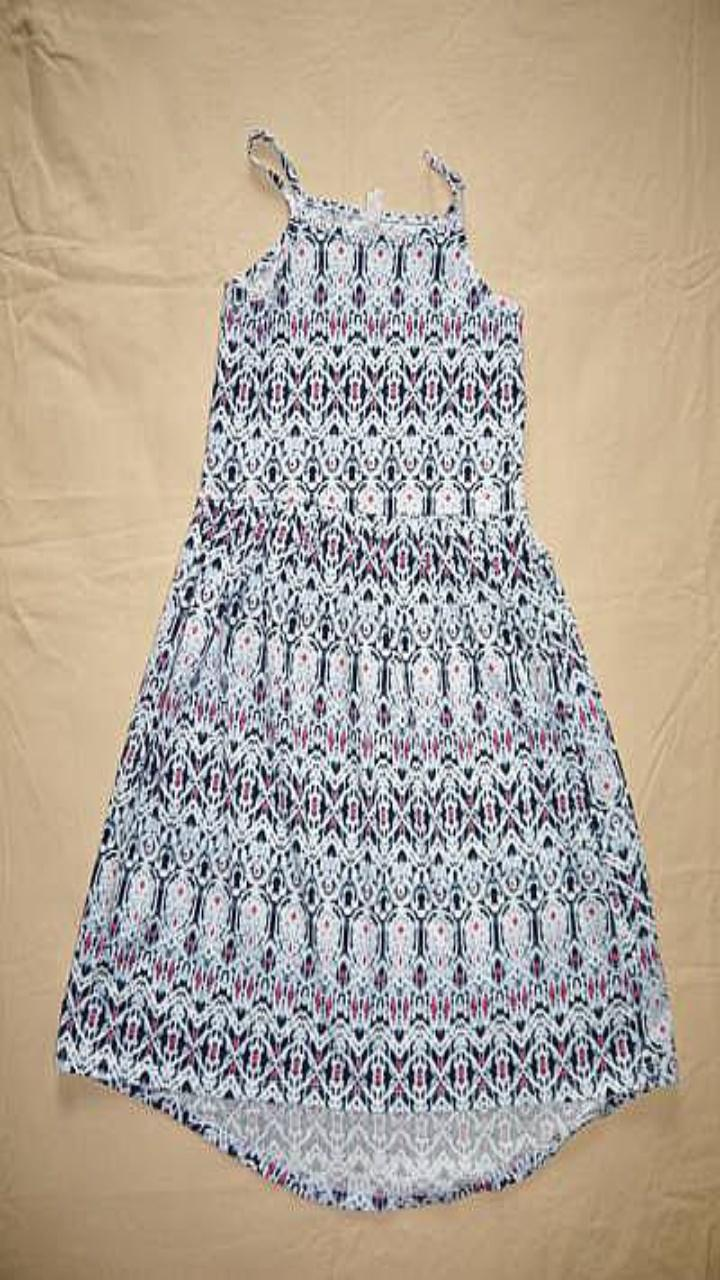Dresses: (56, 129, 678, 1210)
